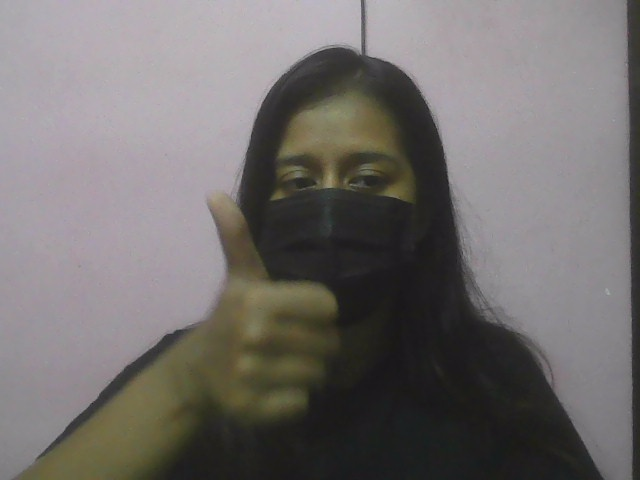Good: (138, 168, 368, 436)
